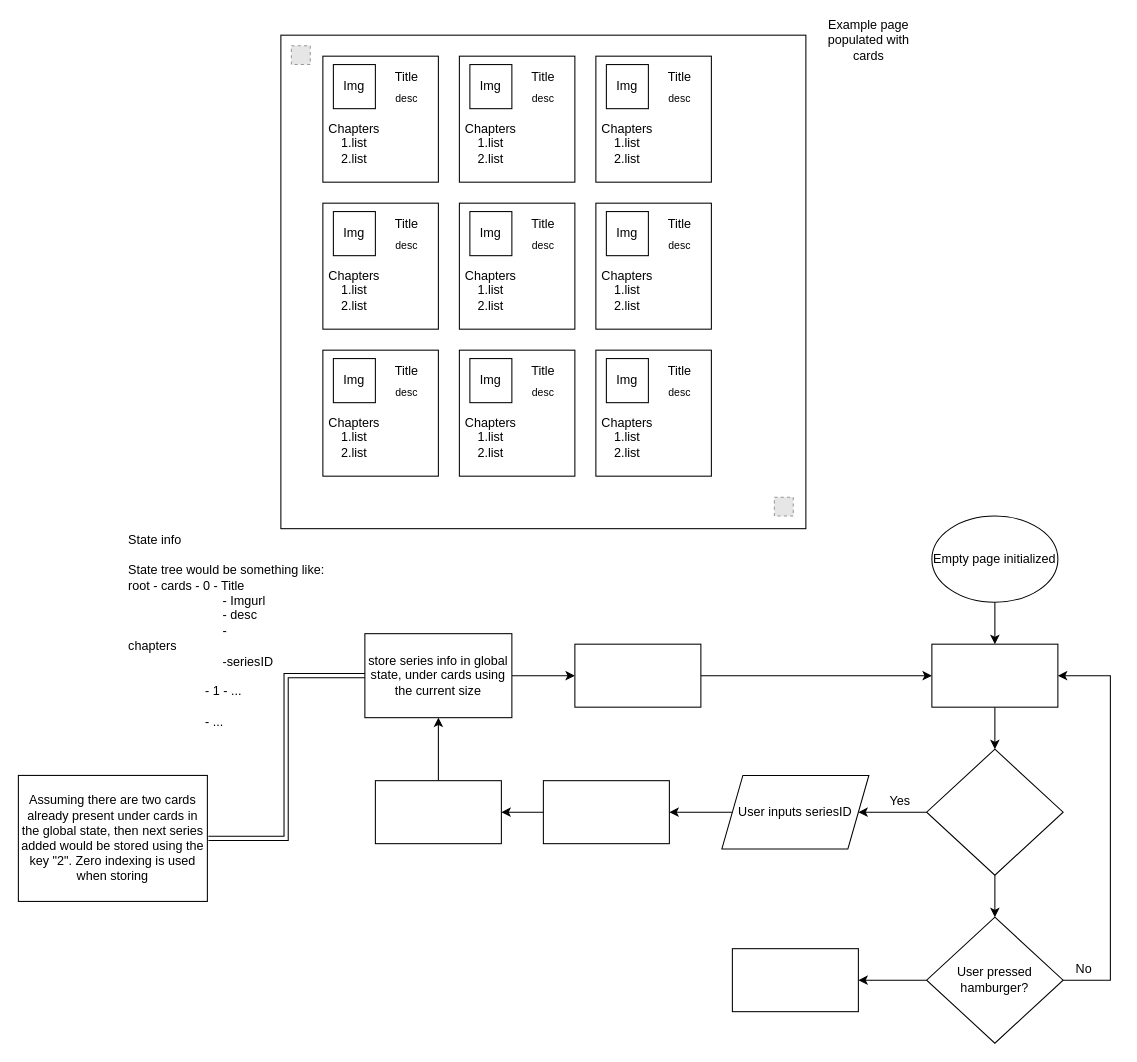
Some shapes in this 1137 by 1062 pixel diagram are drawn without their labels. Grey dashed boxes stand in for pictures. Each missing label, with the centre of its shape:
Awaiting User interaction: the point at 994,675
Generate a new card using this data: the point at 637,675
make GET request to mangadex API: the point at 605,812
Parse data specified in state info from data received: the point at 437,812
Toggle settings visibility: the point at 794,980
User pressed plus?: the point at 994,811
